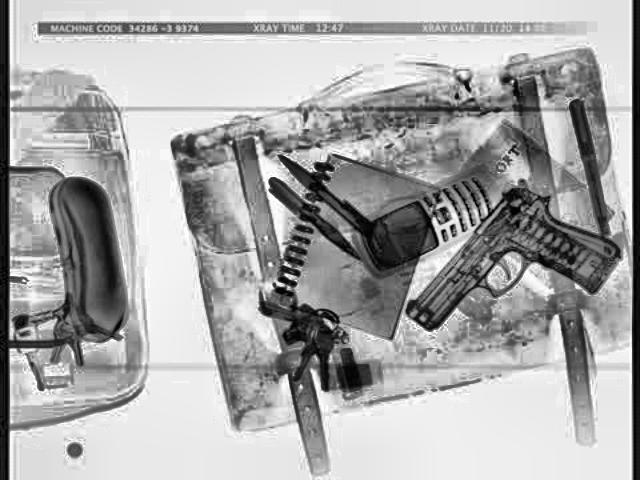Gun: (402, 185, 624, 333)
